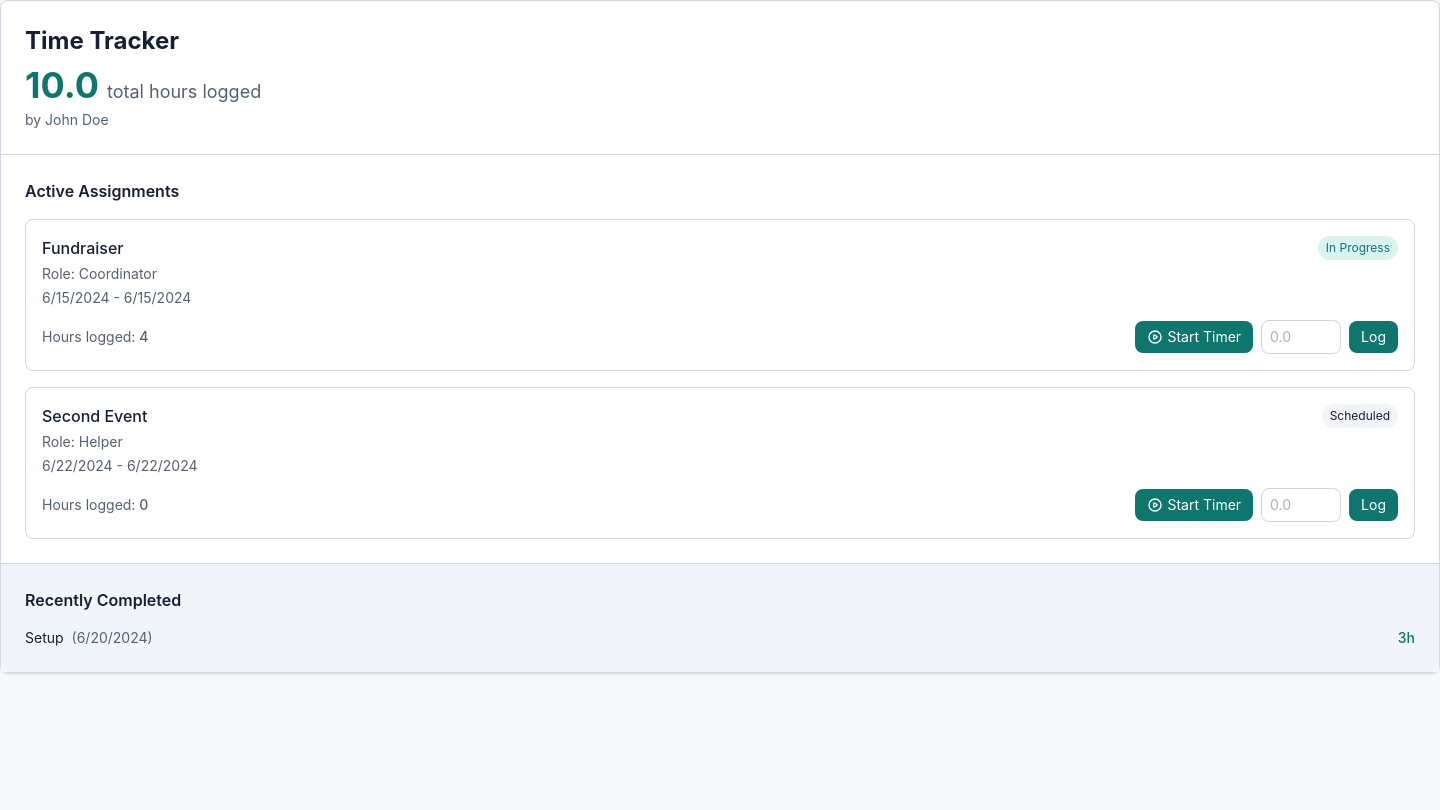
Test case: TimeTracker › should not allow starting multiple timers simultaneously
Click the button "Start Timer" below "in progress" at coordinates (1194, 337), box [1136,321,1253,353]
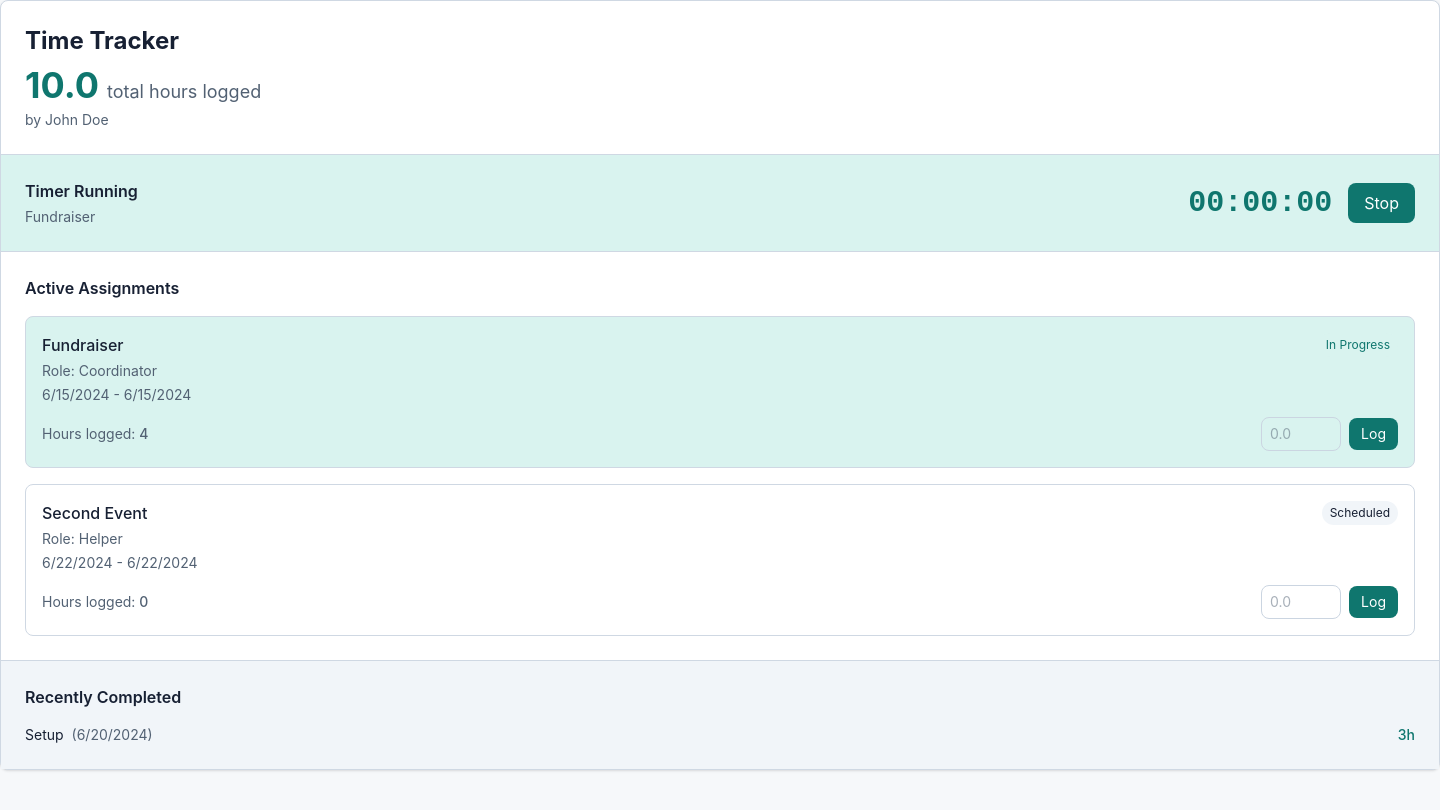
Expected: the heading "Timer Running" is shown, [25,179,138,203]
